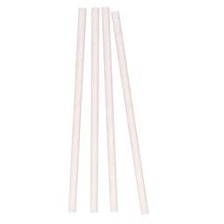drinking_straw: (108, 7, 153, 218), (98, 3, 124, 215), (64, 3, 89, 216)
